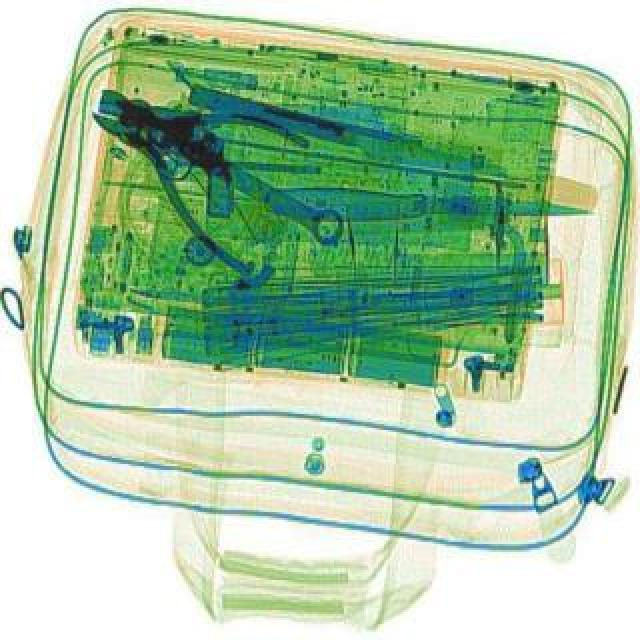gun: (98, 108, 254, 226)
knife: (186, 86, 508, 190), (266, 186, 598, 236)
scissors: (86, 86, 360, 258)
wrench: (76, 62, 332, 284)
